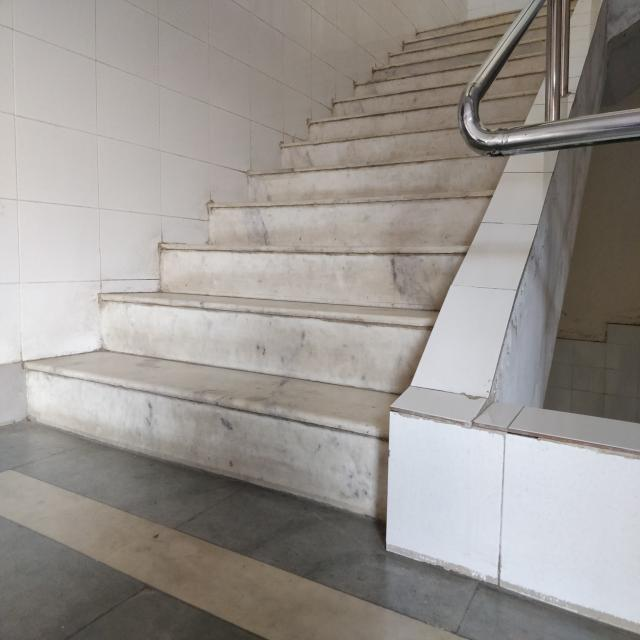upstair: (25, 1, 549, 559)
